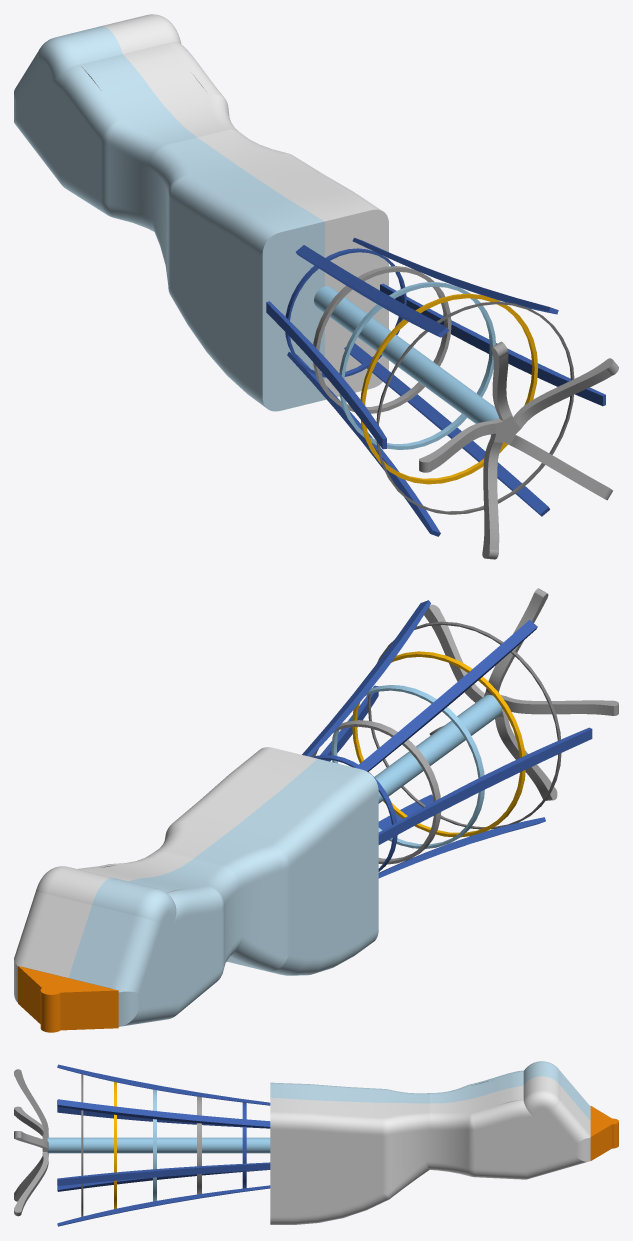
File: Manequin.dae
The picture shows the model from 3 angles, top to bottom: view 1: azimuth 30°, elevation 25°; view 2: azimuth 150°, elevation 25°; view 3: azimuth 270°, elevation 25°; orthographic projection. The views are drawn at different scales.
Parts seen in each view (by area): view 1: 683cb36dca486b08201fc2de (×19); view 2: 683cb36dca486b08201fc2de (×18); view 3: 683cb36dca486b08201fc2de (×20).
Part boxes in pixels (x1=…): 683cb36dca486b08201fc2de (×19): x1=14, y1=14, x2=618, y2=559; 683cb36dca486b08201fc2de (×18): x1=14, y1=588, x2=618, y2=1032; 683cb36dca486b08201fc2de (×20): x1=14, y1=1061, x2=618, y2=1226.
Bounding box in the file's own units: 0.0291 × 0.1091 × 0.027.
